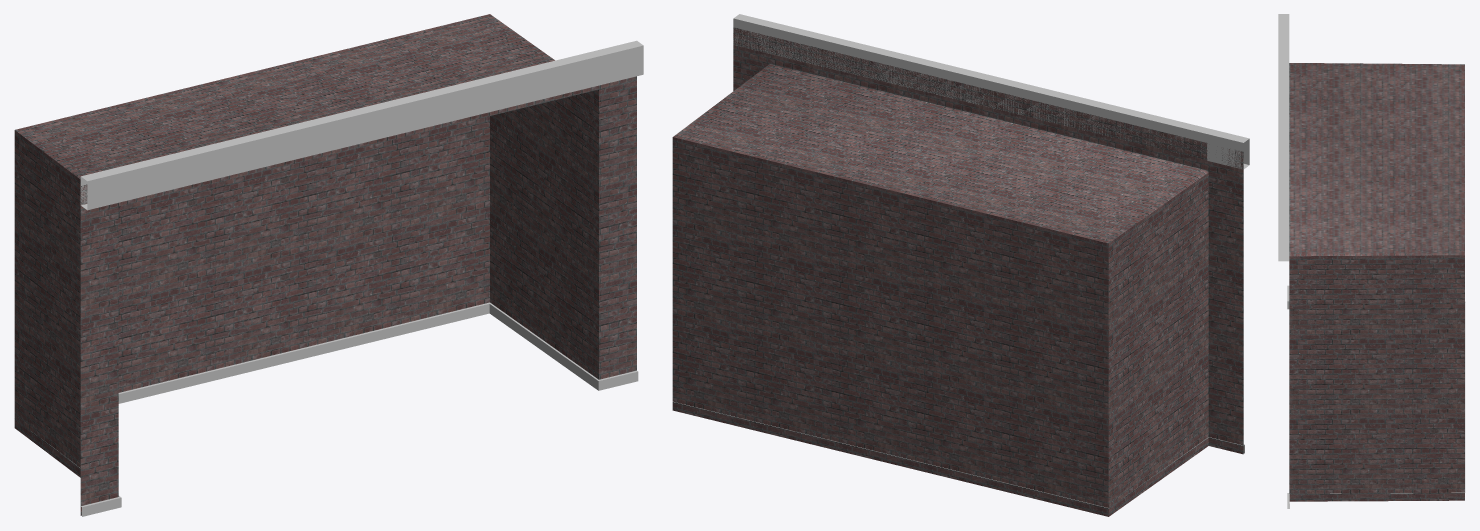
The model's file is Wall_A_Brick_RectangleIn_6x.FBX.
The picture shows the model from 3 angles, left to right: view 1: azimuth 30°, elevation 25°; view 2: azimuth 150°, elevation 25°; view 3: azimuth 270°, elevation 25°; orthographic projection. The views are drawn at different scales.
Visible parts, largest first — view 1: Wall_A_Brick_RectangleIn_6x; view 2: Wall_A_Brick_RectangleIn_6x; view 3: Wall_A_Brick_RectangleIn_6x.
Part boxes in pixels (<box>): Wall_A_Brick_RectangleIn_6x: <box>14,14,643,516</box>; Wall_A_Brick_RectangleIn_6x: <box>672,14,1249,516</box>; Wall_A_Brick_RectangleIn_6x: <box>1278,14,1465,508</box>.
Size of the model in its own units: 600 by 350 by 212.
